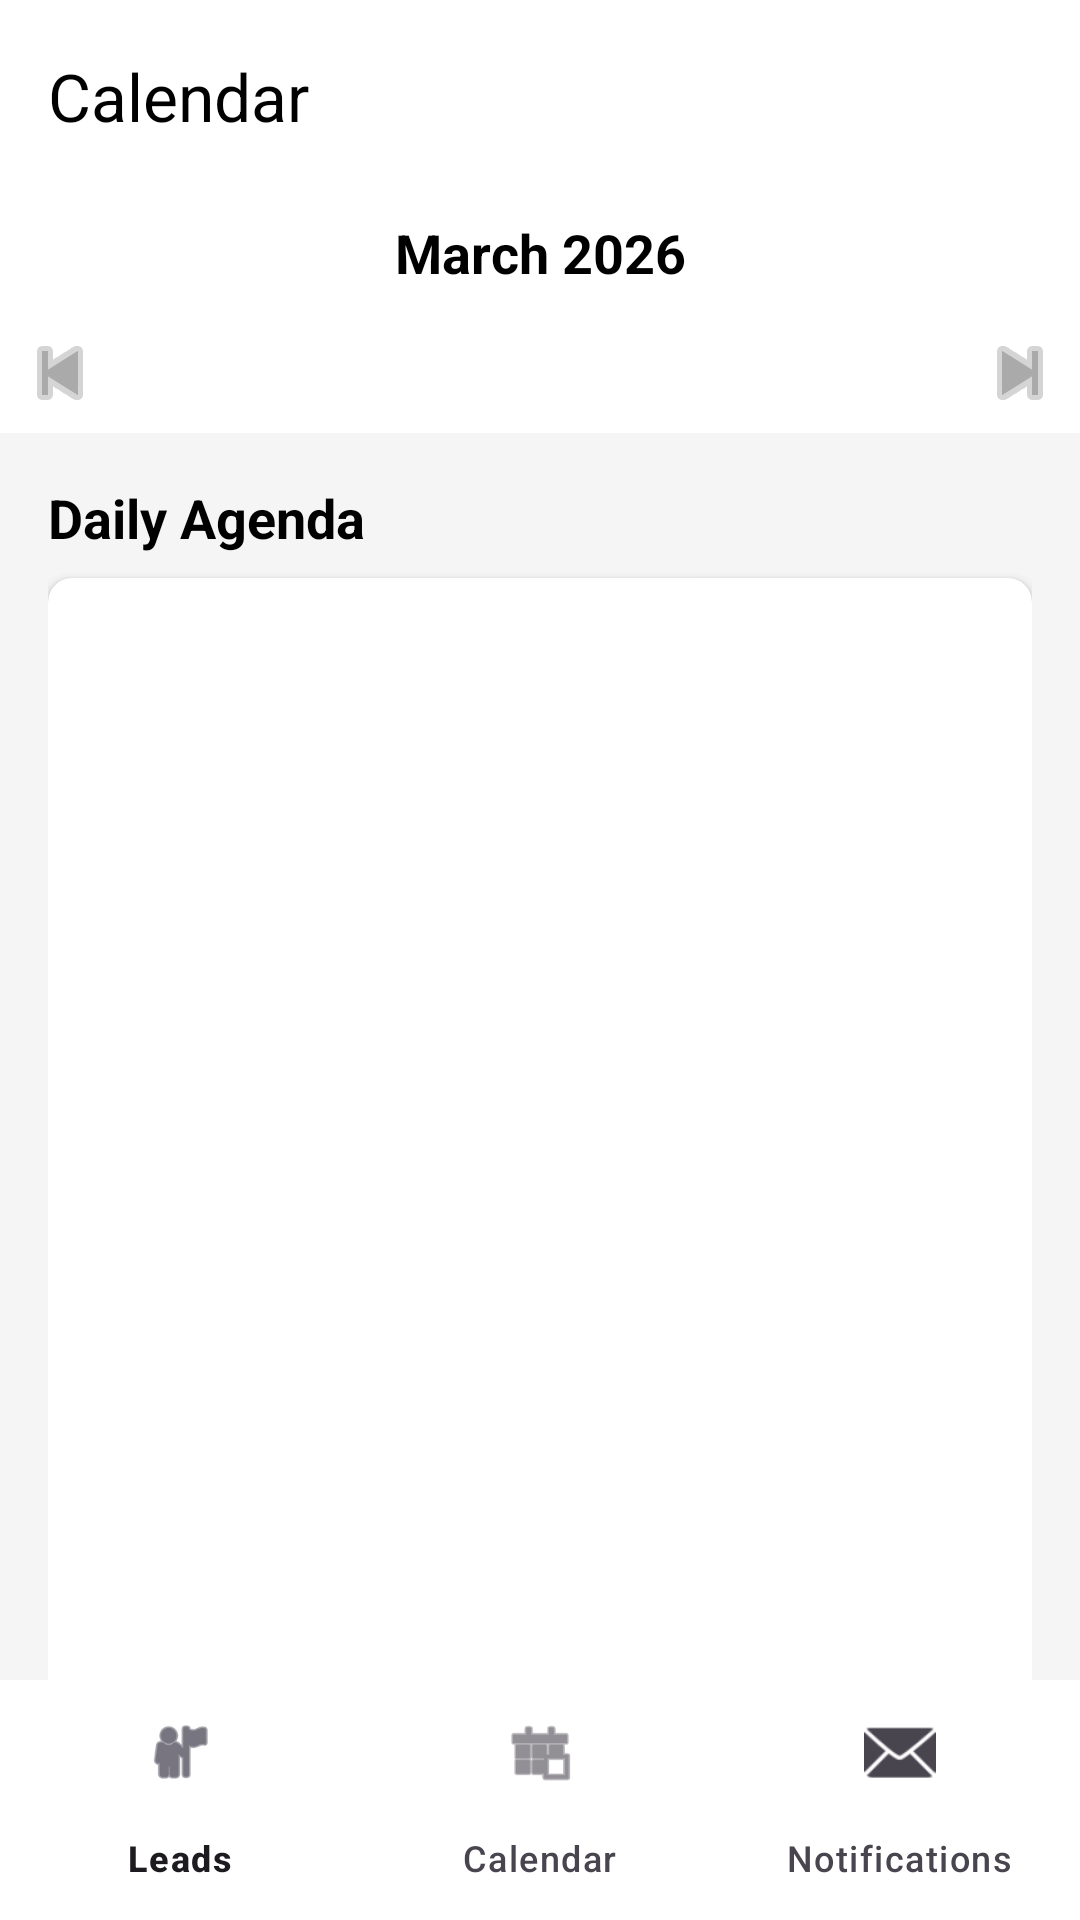

Where to tap for icons on this 1080x1920 app screen, as point (x, y):
next: point (1020, 373)
previous: point (60, 373)
